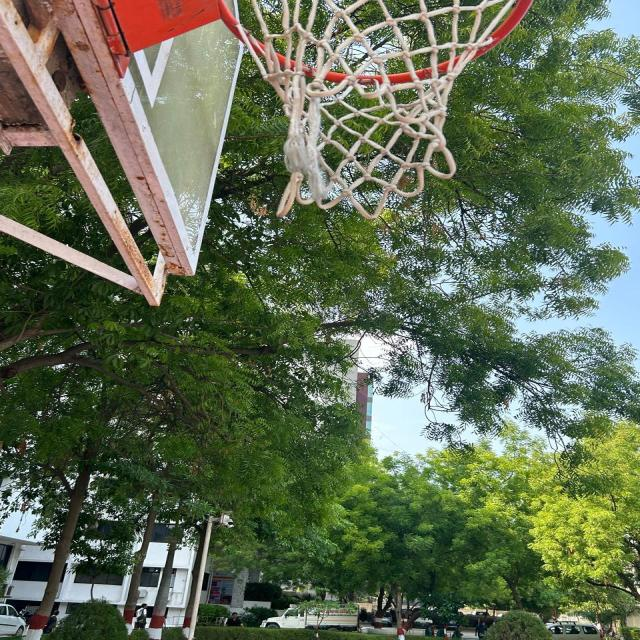hoop: (90, 0, 586, 258)
